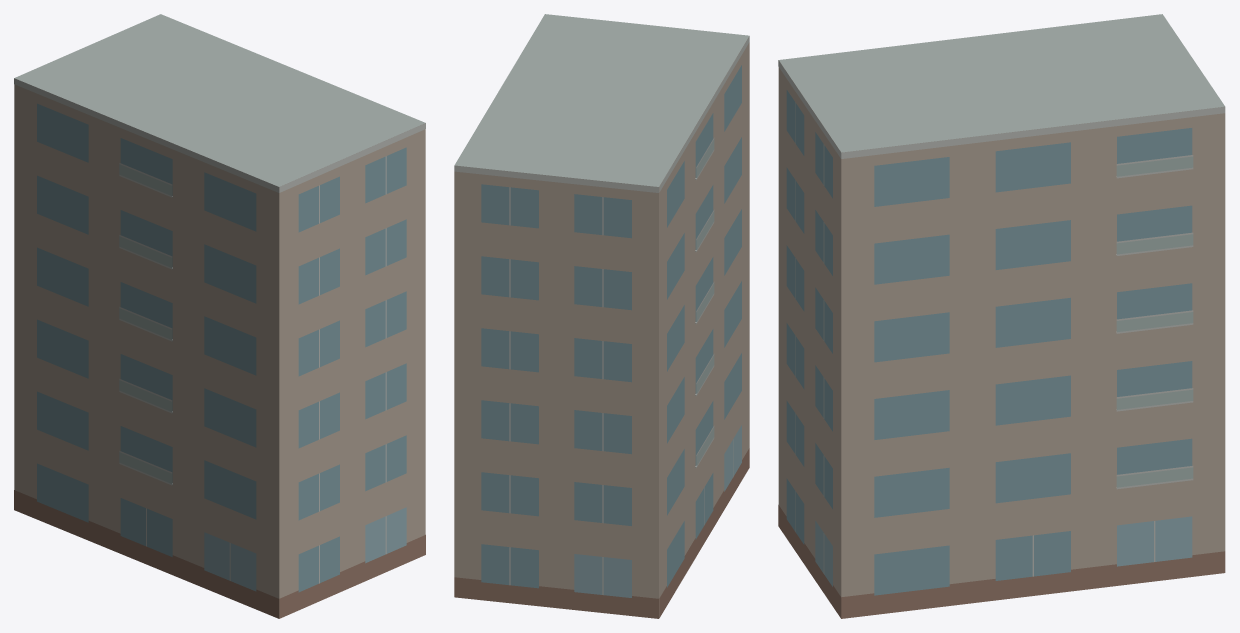
Rendered from survey-upis-32580216.glb.
The picture shows the model from 3 angles, left to right: view 1: azimuth 30°, elevation 25°; view 2: azimuth 150°, elevation 25°; view 3: azimuth 270°, elevation 25°; orthographic projection. The views are drawn at different scales.
Visible parts, largest first — view 1: survey-upis-32580216.tmp; view 2: survey-upis-32580216.tmp; view 3: survey-upis-32580216.tmp.
Part boxes in pixels (x1,y1,x2,y2): survey-upis-32580216.tmp: (14,14,425,618); survey-upis-32580216.tmp: (454,14,749,618); survey-upis-32580216.tmp: (778,14,1225,618).
Size of the model in its own units: 11.03 by 17.3 by 15.03.
